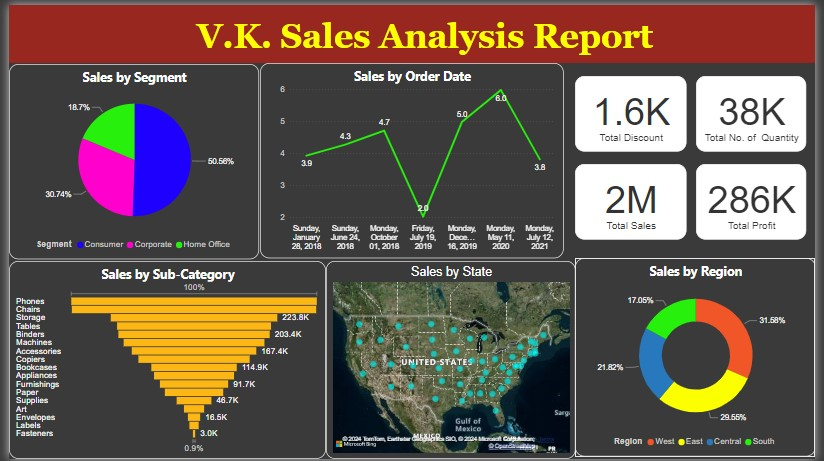

Layout of this report page (visuals, bound fields, positions):
{"tool":"powerbi","page":{"name":"Page 1","canvas":[1280,720],"ordinal":0},"visuals":[{"type":"donutChart","title":"Sales by Region","fields":{"Category":["Orders.Region"],"Y":["Orders.Sales"]},"box":[898.3,401.7,381.7,315],"z":0},{"type":"funnel","title":"Sales by Sub-Category","fields":{"Category":["Orders.Sub-Category"],"Y":["Orders.Sales"]},"box":[0,406.1,502.6,313.9],"z":1},{"type":"map","title":"Sales by State","fields":{"Category":["Orders.State"]},"box":[502.6,406.1,396,313.9],"z":2},{"type":"pieChart","title":"Sales by Segment","fields":{"Category":["Orders.Segment"],"Y":["Orders.Sales"]},"box":[0,93.3,396.7,310],"z":3},{"type":"lineChart","title":"Sales by Order Date","fields":{"Category":["Orders.Order Date"],"Y":["Orders.Sales"]},"box":[398.3,91.7,481.7,310],"z":4},{"type":"card","fields":{"Values":["Orders.Sales"]},"box":[898.3,251.7,176.7,120],"z":5},{"type":"card","fields":{"Values":["Orders.Profit"]},"box":[1090,251.7,175,120],"z":6},{"type":"card","fields":{"Values":["Orders.Discount"]},"box":[898.3,113.3,176.7,120],"z":7},{"type":"card","fields":{"Values":["Orders.Quantity"]},"box":[1090,113.3,175,120],"z":8},{"type":"textbox","box":[0,0,1280,91.7],"z":9}]}

Visuals, with their boxes in screenshot pixels (x1, y1, x2, y2), scaled from the page's 1280x720 canvas onto the 824x461 screenshot:
"Sales by Region" donutChart: box=[578, 257, 823, 459]
"Sales by Sub-Category" funnel: box=[0, 260, 324, 460]
"Sales by State" map: box=[324, 260, 578, 460]
"Sales by Segment" pieChart: box=[0, 60, 255, 258]
"Sales by Order Date" lineChart: box=[256, 59, 566, 257]
card - Orders.Sales: box=[578, 161, 692, 238]
card - Orders.Profit: box=[702, 161, 814, 238]
card - Orders.Discount: box=[578, 73, 692, 149]
card - Orders.Quantity: box=[702, 73, 814, 149]
textbox: box=[0, 0, 823, 59]
